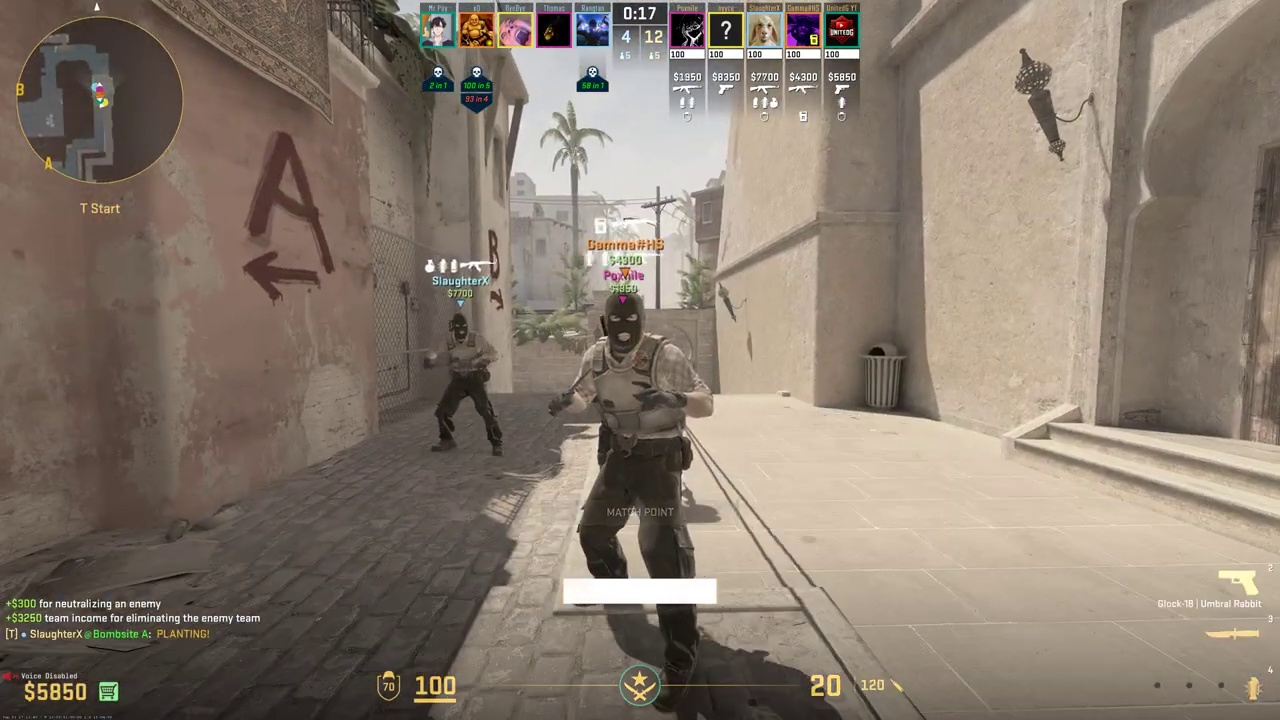Terrorist: (570, 287, 704, 674), (431, 313, 499, 456)
